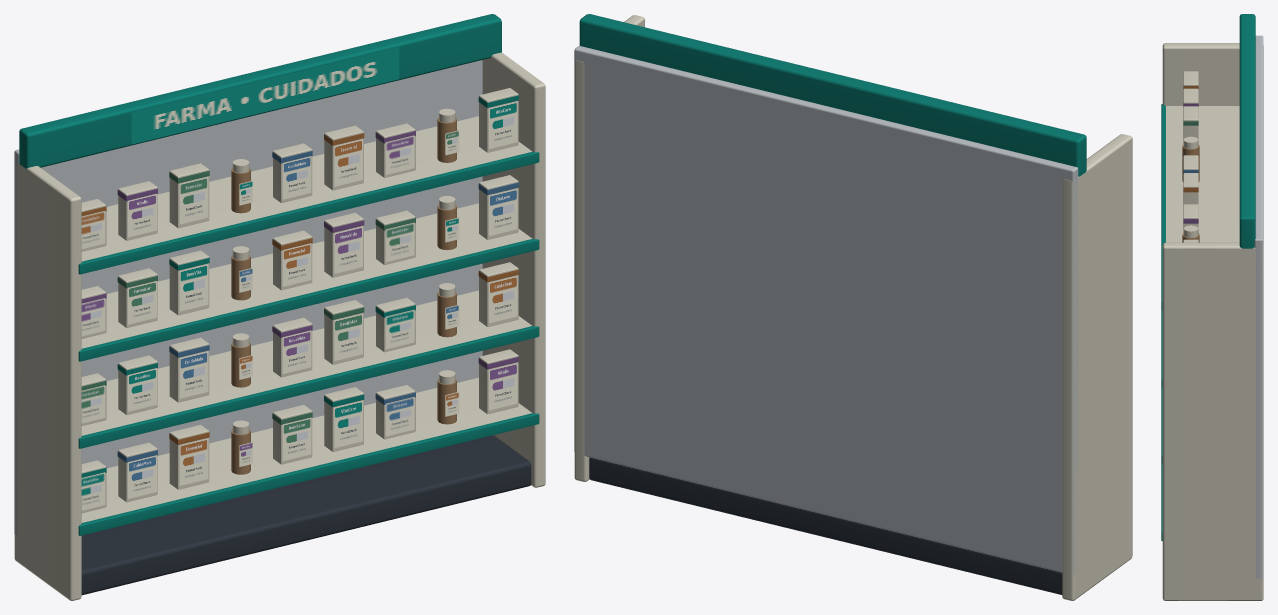
Rendered from prop_gondola_v002.glb.
3 renders of one model, left to right at view 1: azimuth 30°, elevation 25°; view 2: azimuth 150°, elevation 25°; view 3: azimuth 270°, elevation 25°, orthographic. The views are drawn at different scales.
Parts seen in each view (by area): view 1: FarmaPalette, FarmaLabels; view 2: FarmaPalette; view 3: FarmaPalette.
Part boxes in pixels (<box>): FarmaPalette: <box>14,14,545,600</box>; FarmaLabels: <box>81,47,517,510</box>; FarmaPalette: <box>574,14,1132,600</box>; FarmaPalette: <box>1161,14,1263,600</box>.
Size of the model in its own units: 2.4 by 2.1 by 0.5074.
2 materials, 1 textured.
